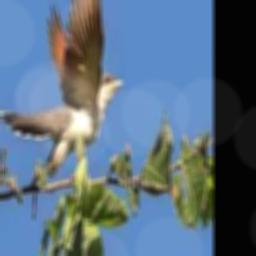Cuckoo: (0, 0, 124, 172)
